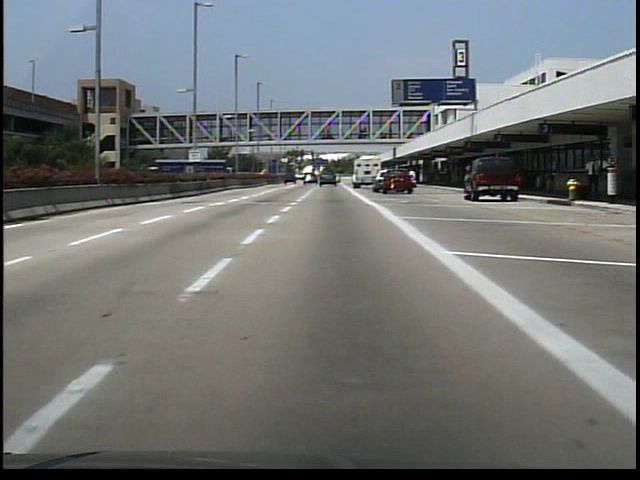person: (576, 152, 601, 202), (405, 169, 420, 192)
